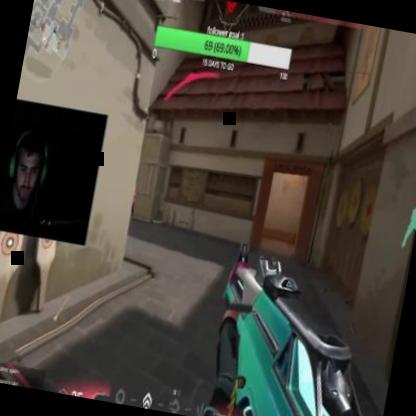enemy: (124, 185, 140, 223)
enemy_head: (131, 184, 136, 194)
